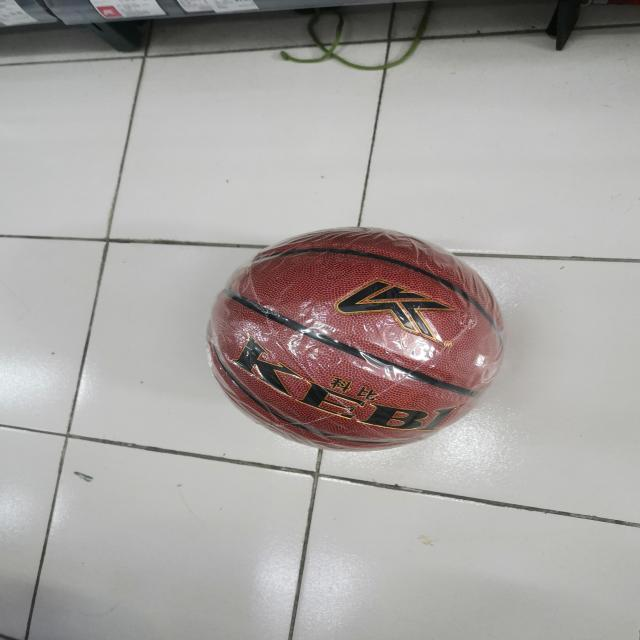ball: (210, 230, 502, 450)
